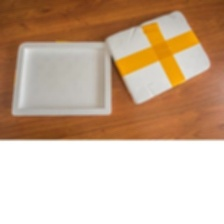foam_box: (101, 7, 214, 109), (8, 36, 116, 119)
